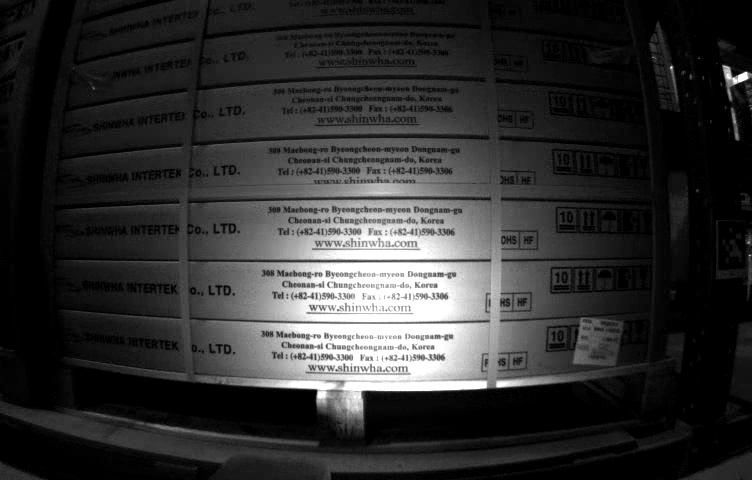True Barcode: (576, 314, 619, 365)
